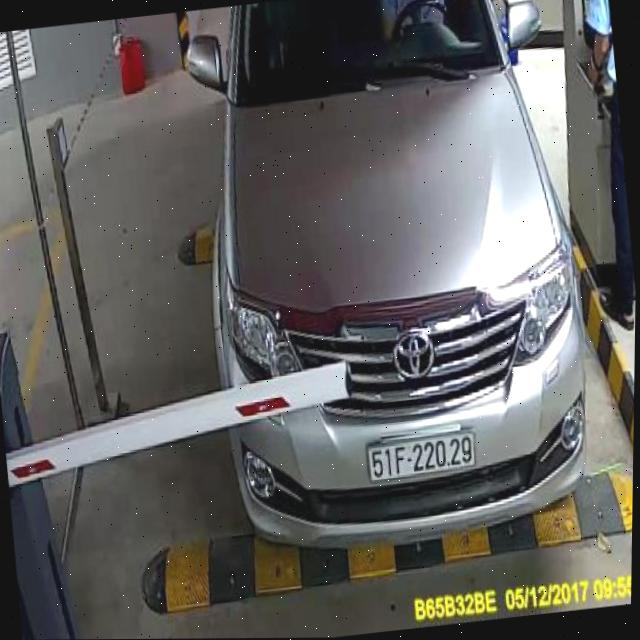car: (162, 0, 615, 556)
plate: (357, 422, 483, 486)
